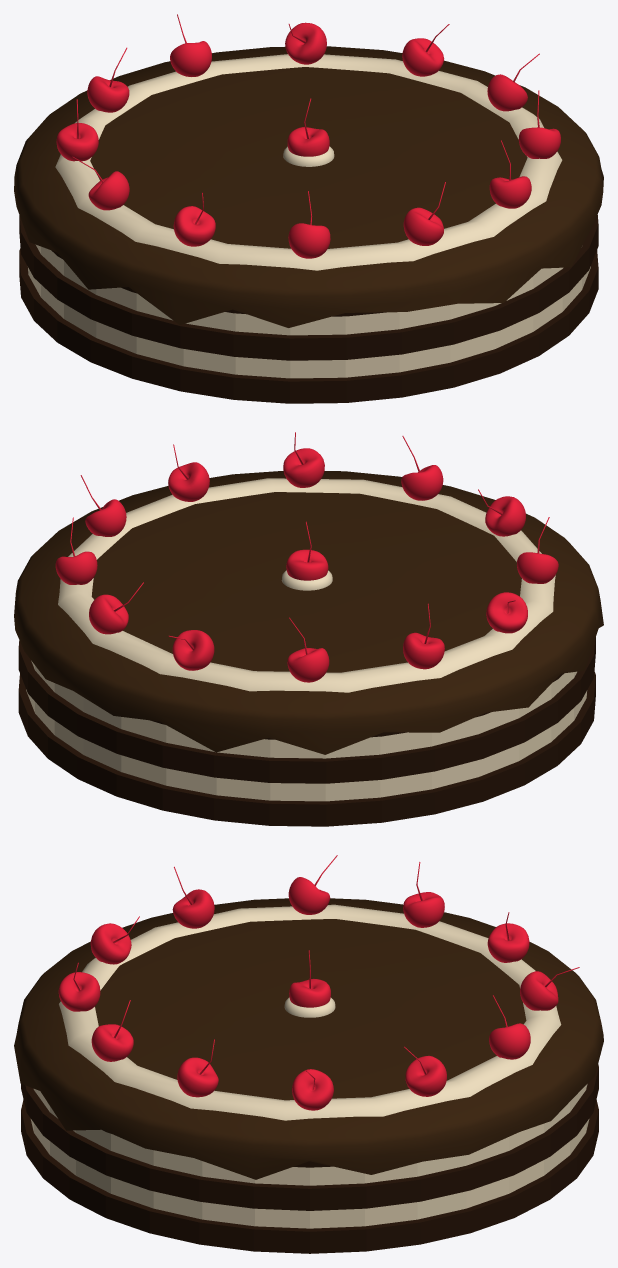
Rendered from cakeDraft.fbx.
3 views of the same model, one above another, from view 1: azimuth 30°, elevation 25°; view 2: azimuth 150°, elevation 25°; view 3: azimuth 270°, elevation 25° (orthographic).
Visible parts, largest first — view 1: Cylinder.006, Cylinder.007, Cylinder.001, Cylinder.003, Cylinder.002, Cylinder.004, Sphere.006, Sphere.011, Sphere.009, Sphere.005, Sphere.012, Sphere.013 (+8 smaller); view 2: Cylinder.006, Cylinder.007, Cylinder.001, Cylinder.003, Cylinder.002, Cylinder.004, Sphere.007, Sphere.010, Sphere.001, Sphere.012, Sphere.002, Sphere.006 (+8 smaller); view 3: Cylinder.006, Cylinder.007, Cylinder.001, Cylinder.003, Cylinder.002, Cylinder.004, Sphere.004, Sphere.005, Sphere.013, Sphere.012, Sphere.008, Sphere.001 (+8 smaller).
Boxes of the visible parts, left/top/right/bottom form: Cylinder.006: left=14, top=46, right=603, bottom=327; Cylinder.007: left=55, top=54, right=562, bottom=270; Cylinder.001: left=19, top=248, right=598, bottom=403; Cylinder.003: left=19, top=215, right=598, bottom=360; Cylinder.002: left=28, top=266, right=590, bottom=378; Cylinder.004: left=35, top=244, right=563, bottom=335; Sphere.006: left=285, top=22, right=326, bottom=64; Sphere.011: left=173, top=192, right=215, bottom=246; Sphere.009: left=56, top=99, right=98, bottom=161; Sphere.005: left=402, top=24, right=449, bottom=76; Sphere.012: left=288, top=191, right=330, bottom=258; Sphere.013: left=403, top=182, right=445, bottom=245; Cylinder.006: left=14, top=470, right=603, bottom=754; Cylinder.007: left=58, top=478, right=555, bottom=692; Cylinder.001: left=18, top=672, right=595, bottom=826; Cylinder.003: left=18, top=637, right=595, bottom=783; Cylinder.002: left=26, top=689, right=587, bottom=801; Cylinder.004: left=31, top=660, right=576, bottom=758; Sphere.007: left=168, top=630, right=214, bottom=670; Sphere.010: left=486, top=592, right=527, bottom=633; Sphere.001: left=283, top=432, right=324, bottom=487; Sphere.012: left=478, top=489, right=525, bottom=536; Sphere.002: left=168, top=444, right=209, bottom=501; Sphere.006: left=89, top=582, right=143, bottom=634; Cylinder.006: left=14, top=898, right=603, bottom=1179; Cylinder.007: left=59, top=904, right=561, bottom=1120; Cylinder.001: left=21, top=1099, right=598, bottom=1253; Cylinder.003: left=21, top=1064, right=598, bottom=1210; Cylinder.002: left=30, top=1119, right=589, bottom=1228; Cylinder.004: left=33, top=1084, right=587, bottom=1185; Sphere.004: left=292, top=1069, right=333, bottom=1110; Sphere.005: left=404, top=1046, right=446, bottom=1096; Sphere.013: left=58, top=962, right=100, bottom=1011; Sphere.012: left=90, top=916, right=139, bottom=964; Sphere.008: left=487, top=912, right=529, bottom=962; Sphere.001: left=91, top=1000, right=133, bottom=1061.
Bounding box in the file's own units: 3.74 × 1.29 × 3.75.
